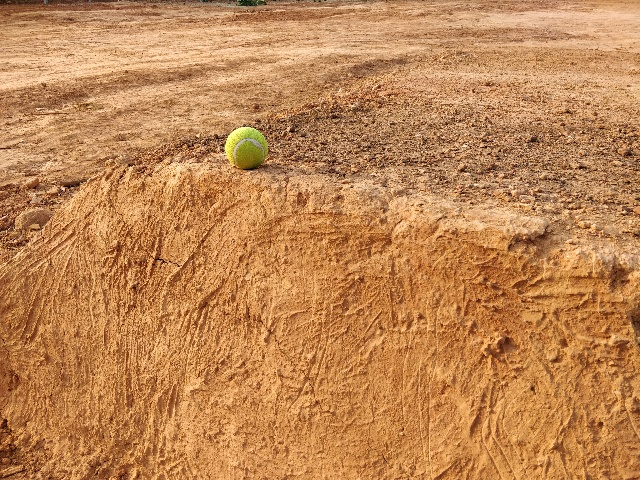ball: (222, 124, 274, 173)
